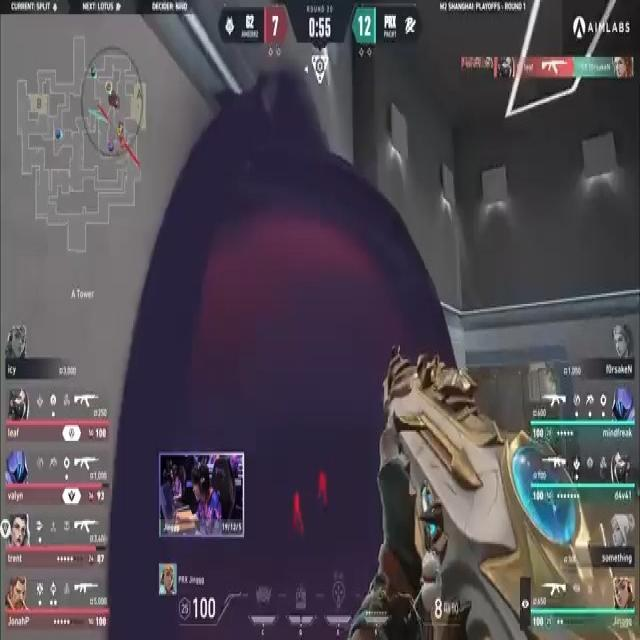smoke: (167, 137, 452, 616)
